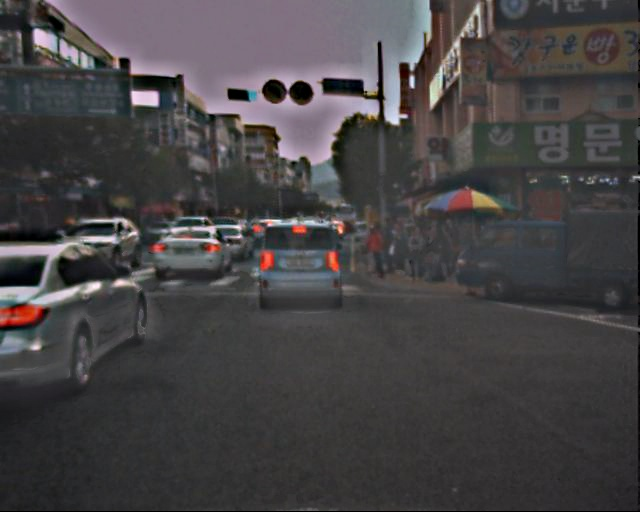person: (366, 219, 454, 282)
